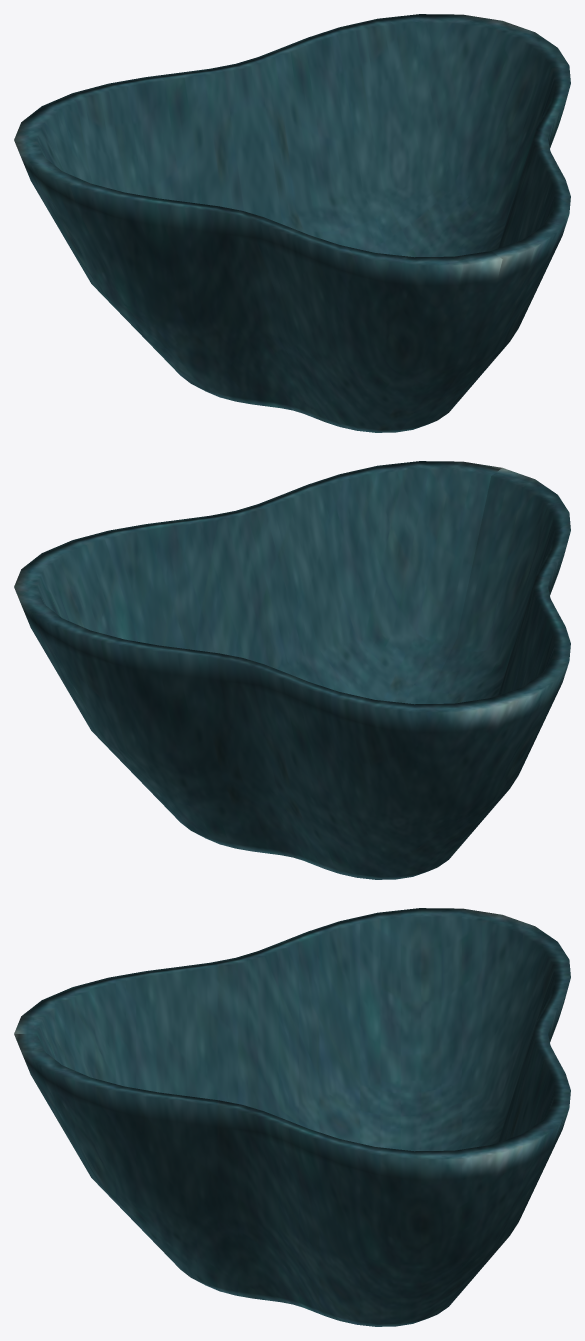
The model's file is CER-02.glb.
3 renders of one model, top to bottom at view 1: azimuth 30°, elevation 25°; view 2: azimuth 150°, elevation 25°; view 3: azimuth 270°, elevation 25°, orthographic.
Bounding box in the file's own units: 0.1693 × 0.074 × 0.1582.
1 material, 1 textured.
